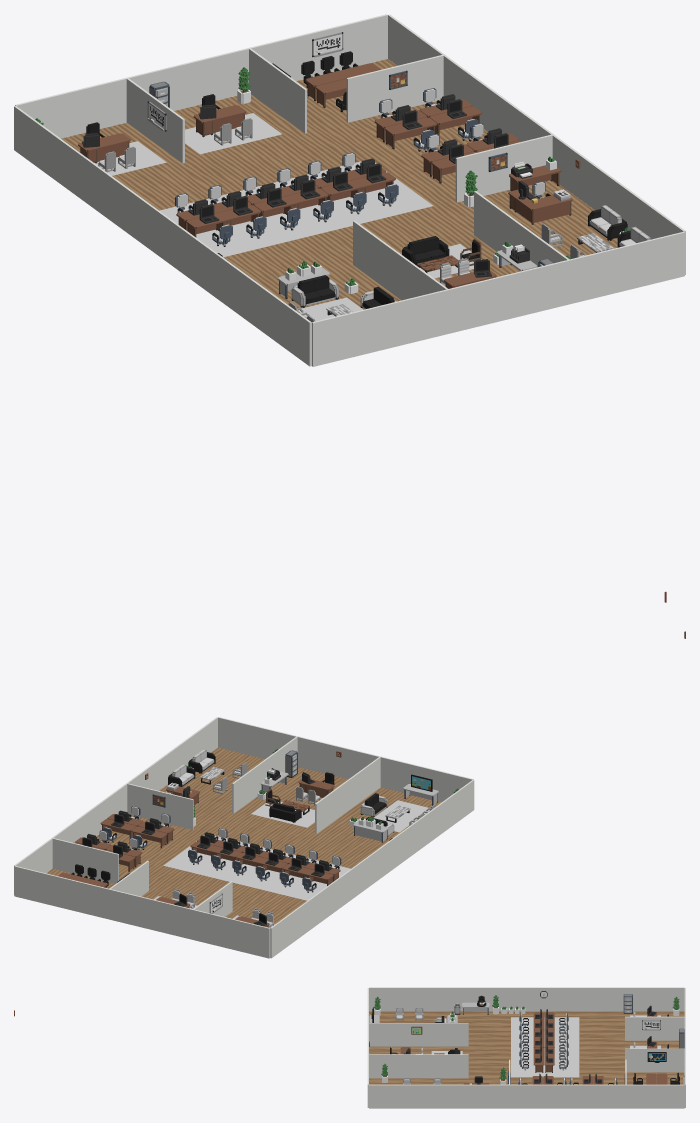
Rendered from Office.glb.
3 renders of one model, top to bottom at view 1: azimuth 30°, elevation 25°; view 2: azimuth 150°, elevation 25°; view 3: azimuth 270°, elevation 25°, orthographic. The views are drawn at different scales.
Parts seen in each view (by area): view 1: Floor.001, Wall_South, Wall_West, Wall_North.001, Wall_East, Rug_Cowork, Wall_East.006, Wall_East.002, Wall_East.005, Wall_East.001, Wall_East.004, Wall_East.003 (+9 smaller); view 2: Floor.001, Wall_North.001, Wall_West, Wall_South, Wall_East, Rug_Cowork, Wall_East.002, Wall_East.006, Wall_East.005, Wall_East.001, Wall_East.004, Rug_Cowork.004 (+2 smaller); view 3: Floor.001, Wall_East, Wall_West, Rug_Cowork, Wall_East.001, Wall_East.002, Wall_East.004, Wall_East.003, Untitled.181, Wall_South, Wall_North.001, desk-1516 (+1 smaller).
Part boxes in pixels (x1,y1,x2,y2): Floor.001: [61, 59, 617, 312]; Wall_South: [312, 231, 684, 366]; Wall_West: [14, 106, 311, 366]; Wall_North.001: [15, 14, 387, 138]; Wall_East: [388, 14, 685, 274]; Rug_Cowork: [159, 161, 432, 257]; Wall_East.006: [346, 55, 444, 122]; Wall_East.002: [353, 220, 447, 300]; Wall_East.005: [455, 134, 554, 202]; Wall_East.001: [474, 191, 569, 267]; Wall_East.004: [249, 48, 306, 133]; Wall_East.003: [126, 78, 184, 163]; Floor.001: [46, 747, 441, 924]; Wall_North.001: [14, 866, 270, 958]; Wall_West: [270, 780, 474, 958]; Wall_South: [218, 717, 473, 801]; Wall_East: [14, 717, 217, 895]; Rug_Cowork: [163, 835, 350, 900]; Wall_East.002: [315, 756, 380, 833]; Wall_East.006: [52, 838, 118, 883]; Wall_East.005: [126, 783, 193, 829]; Wall_East.001: [232, 736, 297, 813]; Wall_East.004: [109, 860, 148, 896]; Rug_Cowork.004: [374, 800, 429, 832]; Floor.001: [369, 1011, 684, 1084]; Wall_East: [369, 1084, 684, 1108]; Wall_West: [369, 987, 684, 1011]; Rug_Cowork: [511, 1017, 579, 1077]; Wall_East.001: [368, 1054, 468, 1078]; Wall_East.002: [369, 1023, 468, 1046]; Wall_East.004: [625, 1048, 684, 1072]; Wall_East.003: [625, 1016, 684, 1040]; Untitled.181: [462, 1002, 489, 1014]; Wall_South: [367, 988, 368, 1107]; Wall_North.001: [684, 988, 685, 1107]; desk-1516: [544, 1047, 554, 1072].
Size of the model in its own units: 27 by 3 by 78.21.
153 materials, 140 textured.
